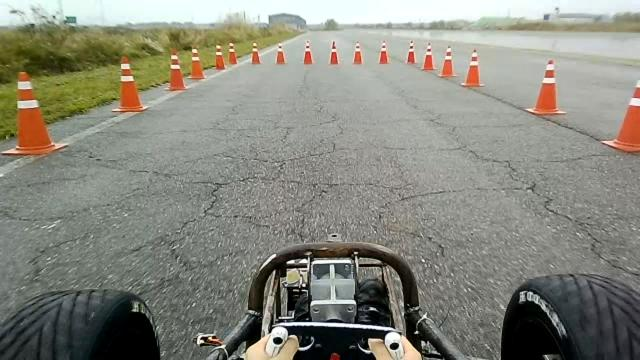red cone: (0, 70, 68, 156), (110, 51, 152, 120), (524, 58, 567, 115), (164, 48, 188, 91), (460, 48, 484, 87), (438, 45, 458, 77), (187, 47, 206, 79), (420, 42, 436, 70), (212, 44, 226, 70), (378, 39, 390, 64), (405, 39, 417, 64), (274, 41, 286, 64), (328, 40, 339, 64), (250, 42, 262, 64), (303, 39, 313, 64), (352, 41, 362, 64), (228, 41, 238, 64)
